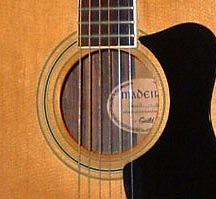guitar: (1, 1, 216, 199)
